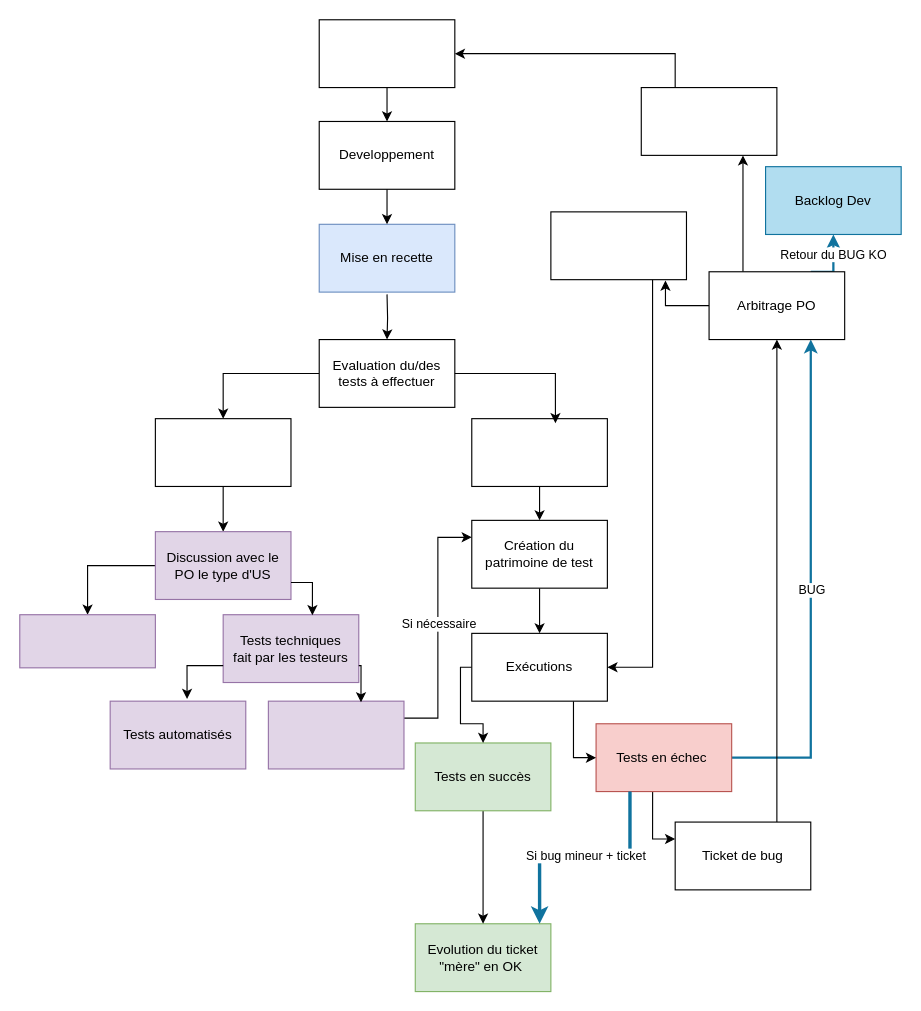
Some shapes in this 921 by 1011 pixel diagram are drawn without their labels. The box of each missing label's shape, as (x1, y1, x2, y2) in pixels:
Backlog: (318, 19, 455, 88)
Fontionnels: (471, 418, 607, 486)
retypage en story technique Tests par les DEV: (19, 614, 155, 668)
Techniques: (154, 418, 291, 486)
Tests manuels: (267, 700, 404, 769)
Ticket de bug valide: (640, 86, 777, 155)
Ticket rejeté: (550, 211, 686, 280)
